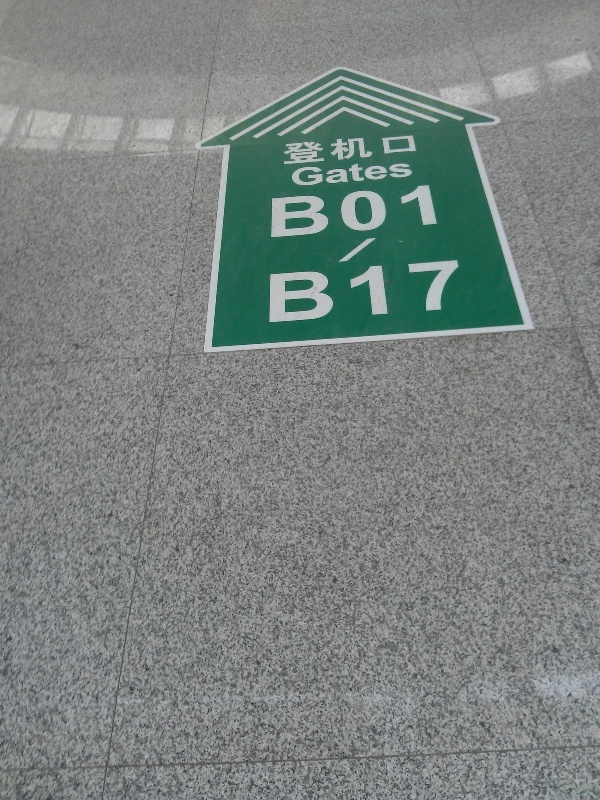text: (273, 260, 288, 324), (289, 260, 304, 324), (305, 260, 320, 324), (321, 260, 336, 324), (337, 260, 352, 324), (353, 260, 368, 324), (369, 260, 384, 324), (385, 260, 400, 324), (401, 260, 416, 324), (417, 260, 432, 324), (433, 260, 448, 324), (449, 260, 464, 324), (273, 184, 288, 239), (289, 184, 304, 239), (305, 184, 320, 239), (321, 184, 336, 239), (337, 184, 352, 239), (353, 184, 368, 239), (369, 184, 384, 239), (385, 184, 400, 239), (401, 184, 416, 239), (417, 184, 432, 239), (289, 133, 304, 166), (305, 133, 320, 166), (321, 133, 336, 166), (337, 133, 352, 166), (353, 133, 368, 166), (369, 133, 384, 166), (385, 133, 400, 166), (401, 133, 416, 166), (305, 156, 320, 188), (321, 156, 336, 188), (337, 156, 352, 188), (353, 156, 368, 188), (369, 156, 384, 188), (385, 156, 400, 188), (337, 234, 352, 264), (353, 234, 368, 264), (369, 234, 384, 264), (290, 156, 304, 188), (401, 156, 414, 188), (268, 260, 272, 324), (465, 260, 469, 324), (433, 184, 437, 239), (284, 133, 288, 166), (417, 133, 418, 166)
